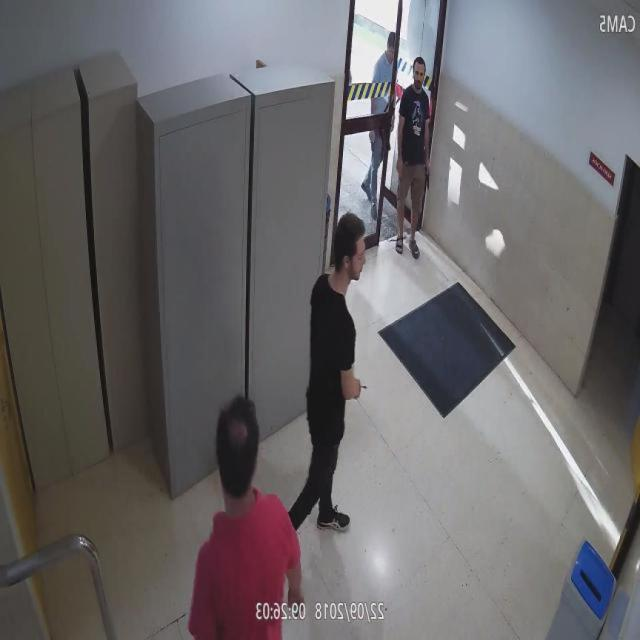pistol: (424, 162, 433, 190)
